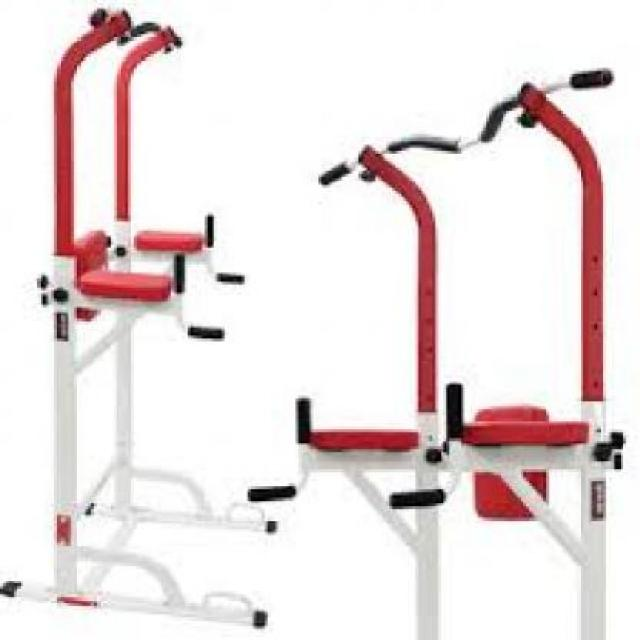chinning dipping: (1, 6, 274, 629)
